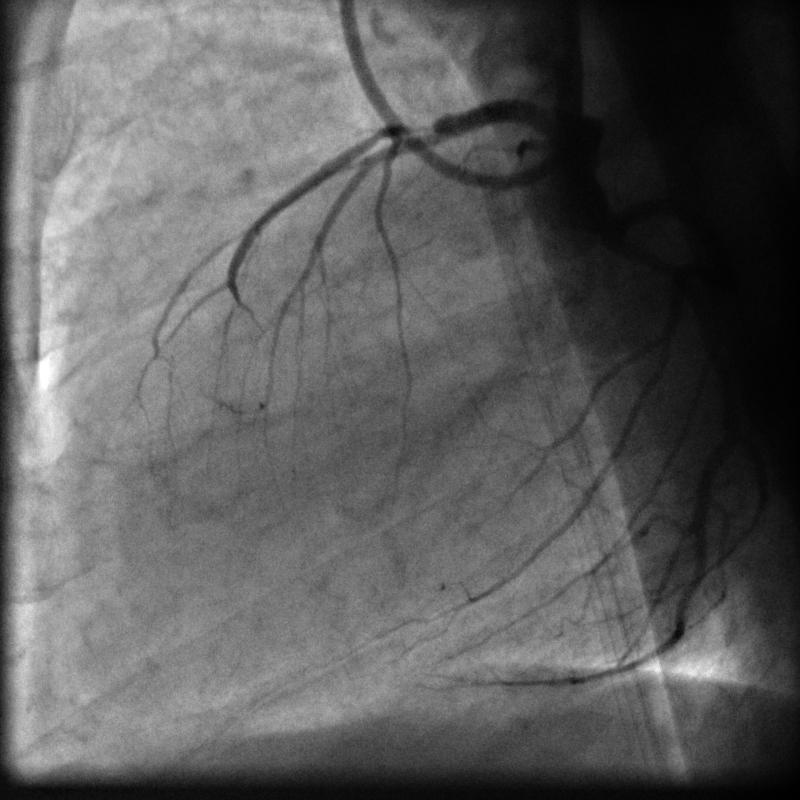Stenosis: (398, 114, 445, 152)
